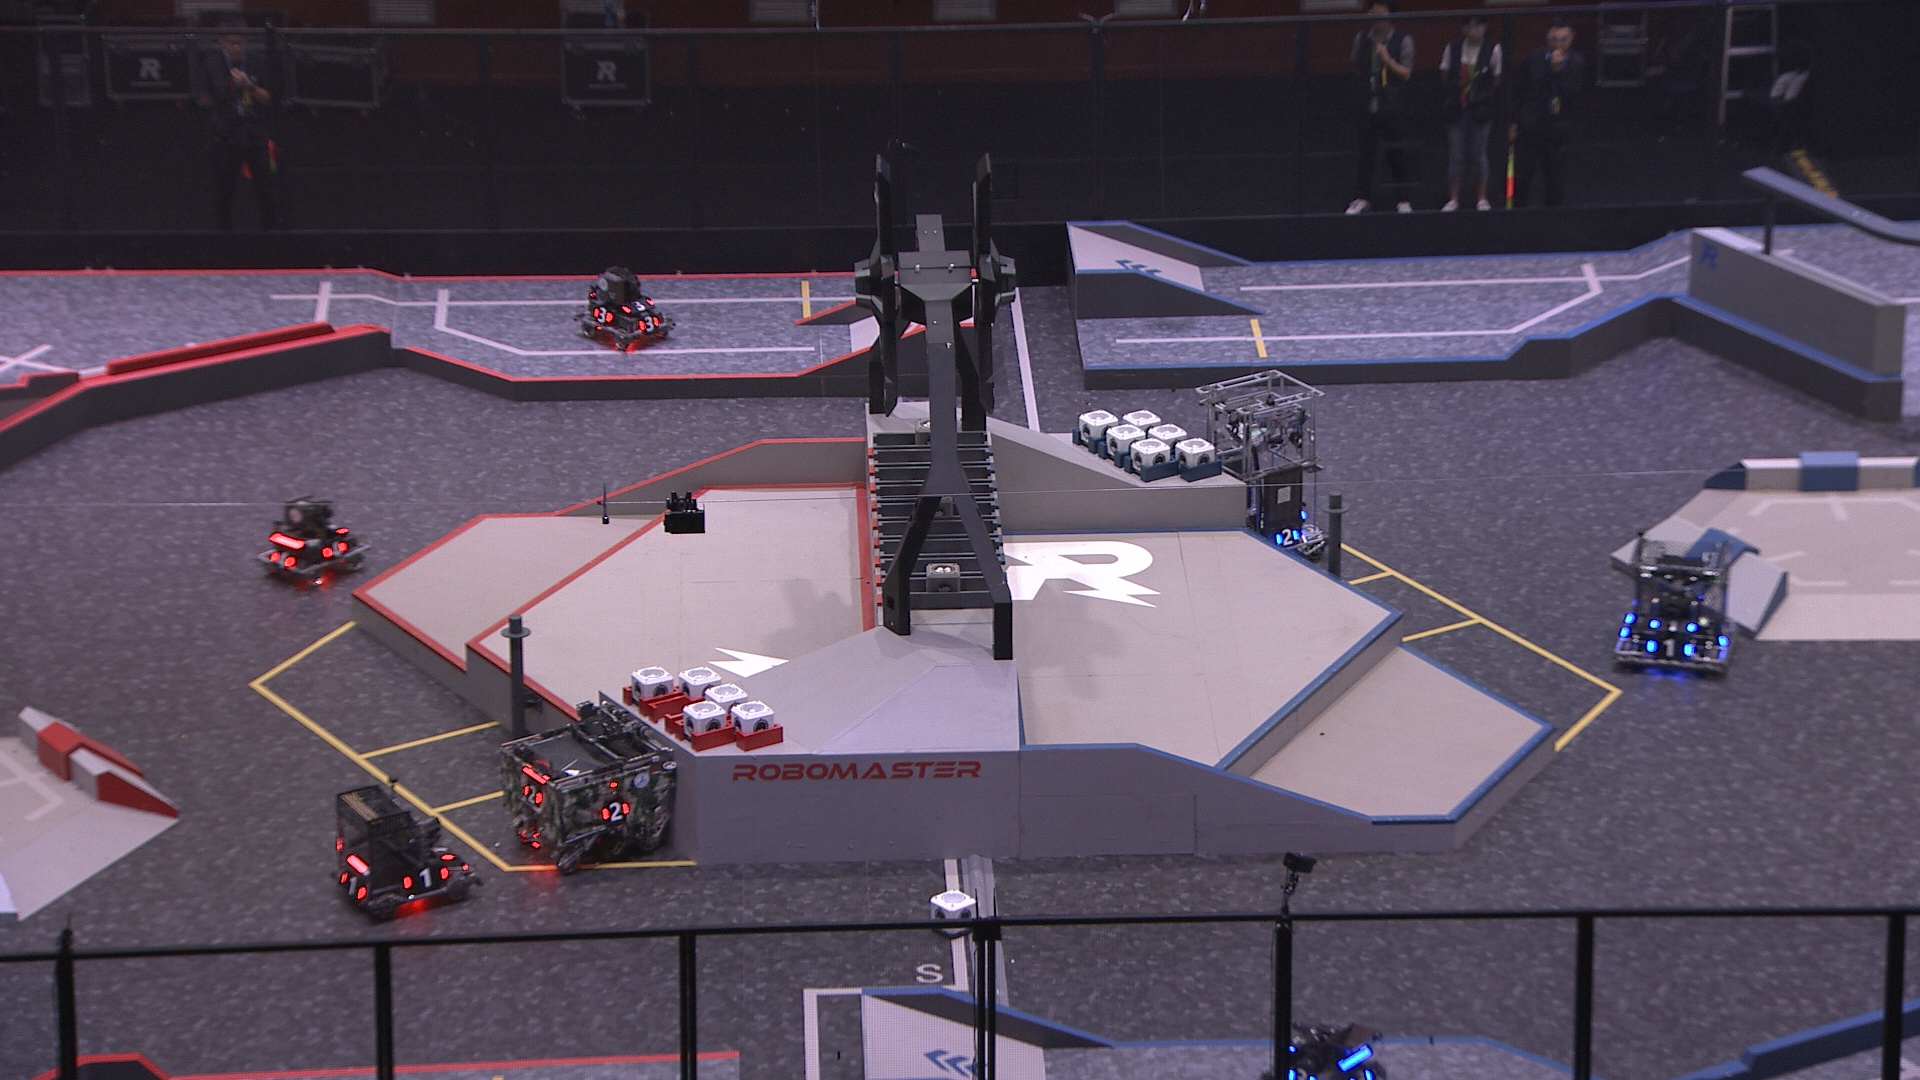armor: (400, 861, 452, 894), (334, 869, 371, 903), (1647, 613, 1697, 636), (1646, 636, 1691, 659), (599, 799, 632, 825), (1273, 524, 1302, 550), (1283, 1029, 1309, 1058), (427, 841, 458, 865), (320, 518, 352, 541), (618, 294, 655, 313), (589, 301, 613, 328), (520, 783, 549, 806), (266, 547, 295, 570), (633, 311, 661, 334), (323, 541, 348, 560), (1716, 622, 1735, 647), (1283, 1065, 1316, 1080), (1346, 1064, 1375, 1080)
car: (498, 703, 679, 880), (1183, 376, 1331, 562), (327, 777, 479, 922), (1605, 531, 1738, 676), (249, 491, 371, 589), (1245, 1015, 1393, 1080), (571, 264, 674, 349)
